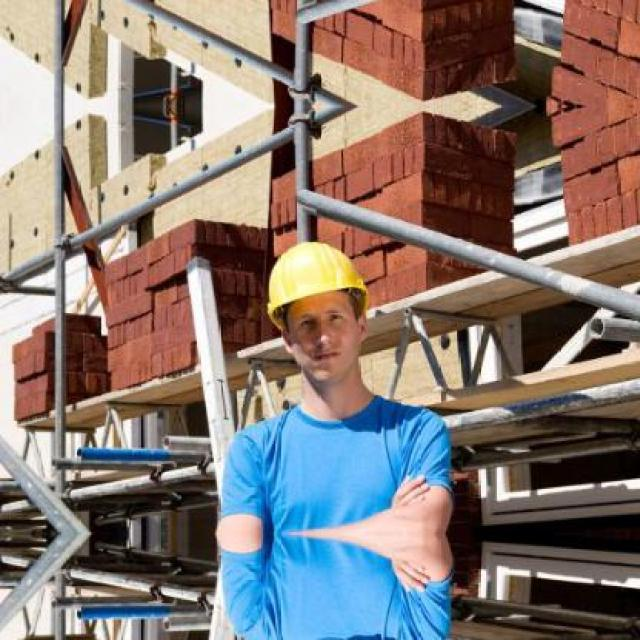helmet: (250, 225, 384, 390)
